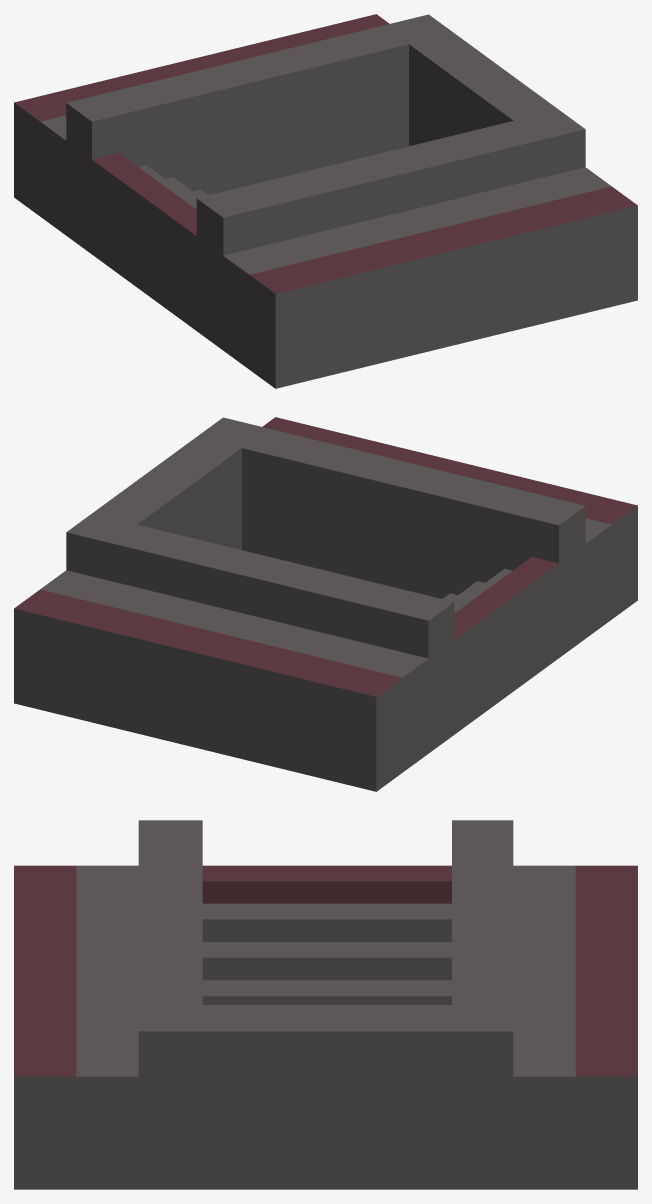
The model's file is buildings-train-station-platform-stairs-small.glb.
3 views of the same model, one above another, from view 1: azimuth 30°, elevation 25°; view 2: azimuth 150°, elevation 25°; view 3: azimuth 270°, elevation 25° (orthographic). The views are drawn at different scales.
Visible parts, largest first — view 1: train-station-platform-stairs-small; view 2: train-station-platform-stairs-small; view 3: train-station-platform-stairs-small.
Part boxes in pixels (box(x1,y1,x2,y2)): train-station-platform-stairs-small: box(14, 14, 637, 388); train-station-platform-stairs-small: box(14, 417, 637, 791); train-station-platform-stairs-small: box(14, 820, 637, 1189).
Bounding box in the file's own units: 4 × 1.4 × 5.
